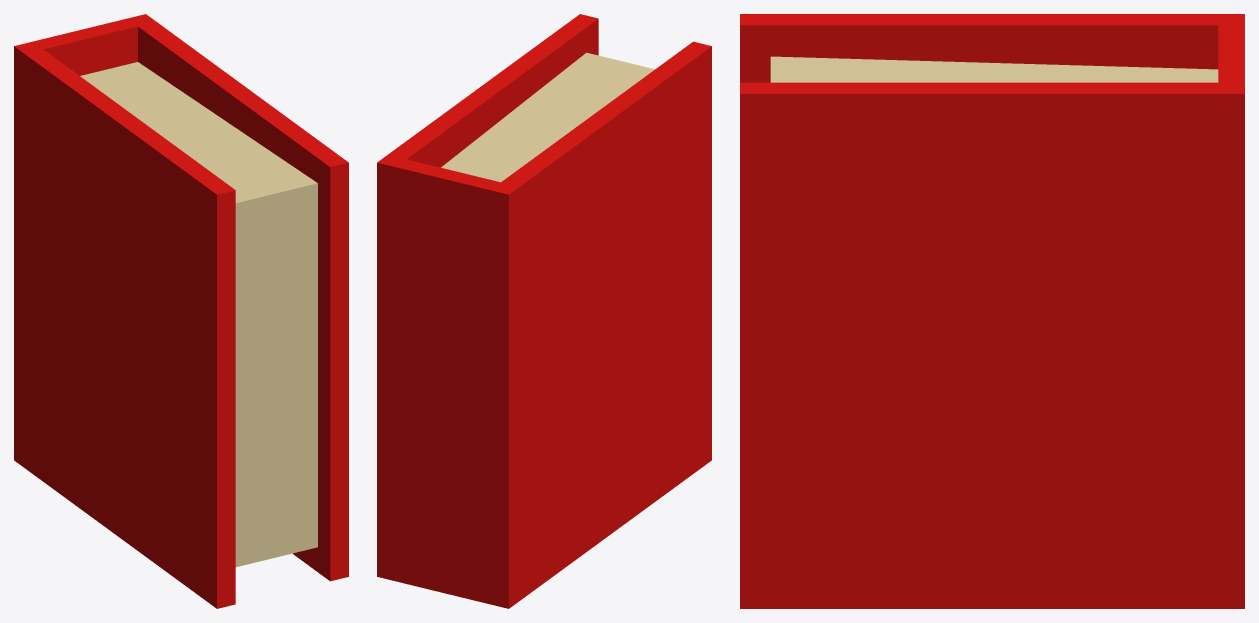
Rendered from genericbook.fbx.
3 views of the same model, side by side, from view 1: azimuth 30°, elevation 25°; view 2: azimuth 150°, elevation 25°; view 3: azimuth 270°, elevation 25° (orthographic). The views are drawn at different scales.
Parts seen in each view (by area): view 1: Cube.005; view 2: Cube.005; view 3: Cube.005.
Boxes of the visible parts, left/top/right/bottom form: Cube.005: left=14, top=14, right=348, bottom=608; Cube.005: left=377, top=14, right=711, bottom=608; Cube.005: left=740, top=14, right=1244, bottom=608.
Bounding box in the file's own units: 0.1199 × 0.3599 × 0.3198.
